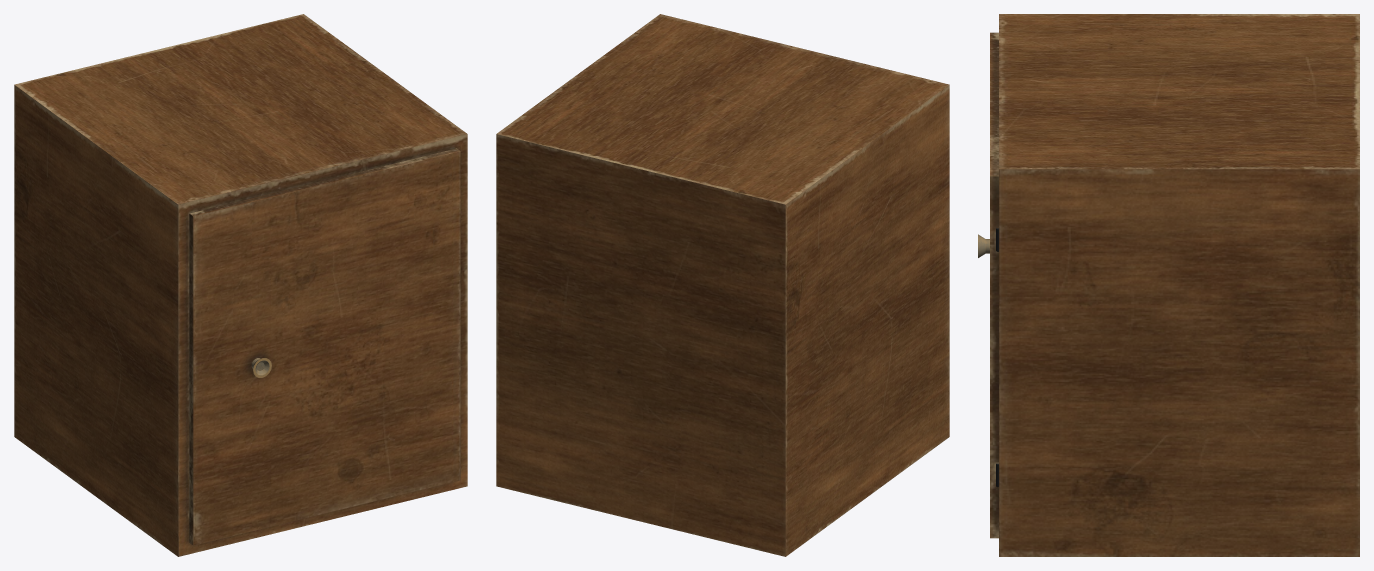
The model's file is old_soviet_cupboard.glb.
3 views of the same model, side by side, from view 1: azimuth 30°, elevation 25°; view 2: azimuth 150°, elevation 25°; view 3: azimuth 270°, elevation 25° (orthographic). The views are drawn at different scales.
Parts seen in each view (by area): view 1: Cupboard, Door; view 2: Cupboard; view 3: Cupboard, Door.
Part boxes in pixels (x1,y1,x2,y2): Cupboard: (14, 14, 467, 556); Door: (189, 148, 460, 545); Cupboard: (496, 14, 949, 556); Cupboard: (996, 14, 1359, 556); Door: (978, 32, 998, 538).
Bounding box in the file's own units: 64.38 × 74.88 × 66.83.
Materials: 1 (1 with a texture image).
